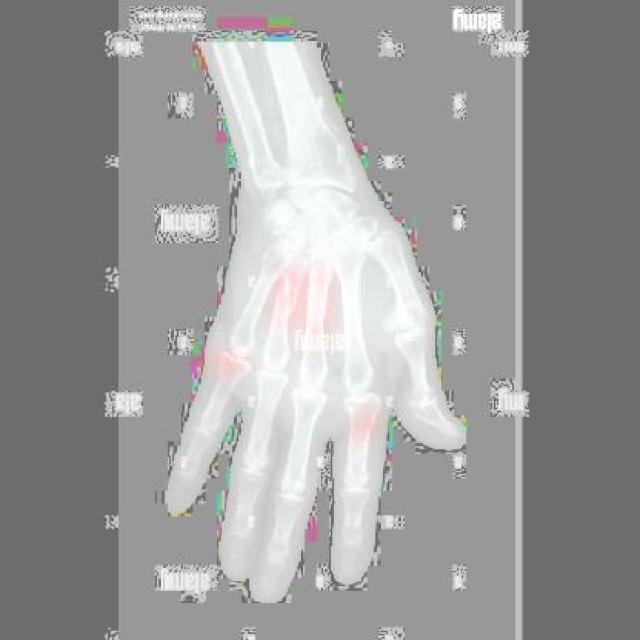Fracture: (206, 345, 252, 398), (263, 280, 300, 316), (351, 411, 384, 445), (307, 294, 336, 327)
